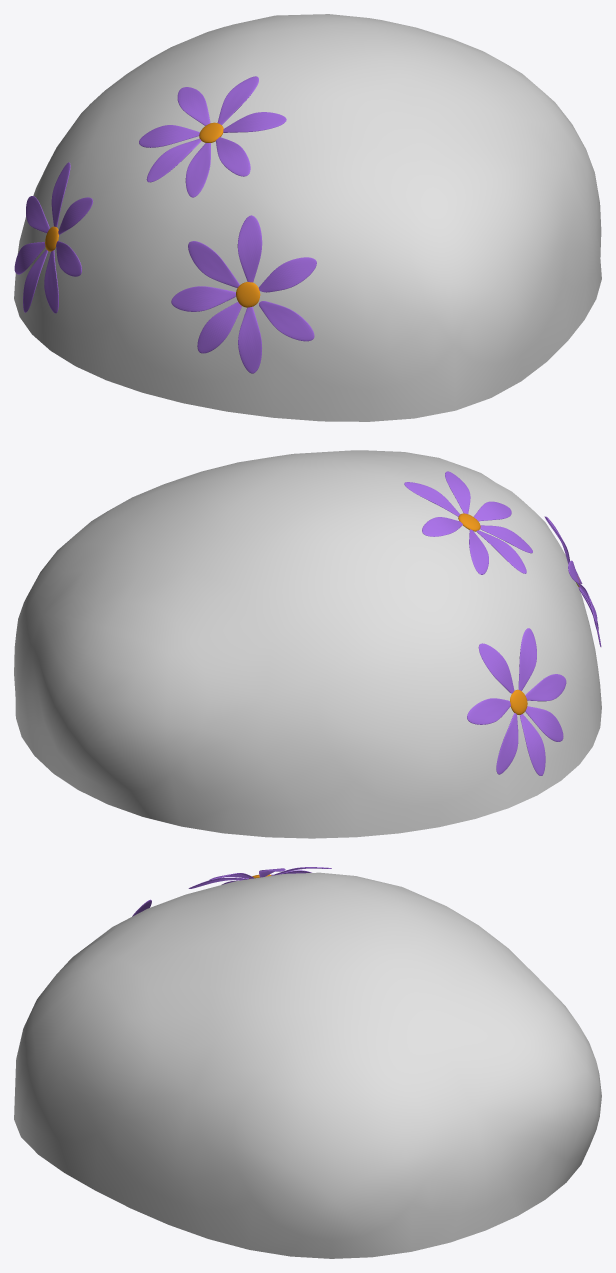
Rendered from BushV1.fbx.
3 views of the same model, one above another, from view 1: azimuth 30°, elevation 25°; view 2: azimuth 150°, elevation 25°; view 3: azimuth 270°, elevation 25° (orthographic). The views are drawn at different scales.
Parts seen in each view (by area): view 1: Icosphere, Cube.003, Cube.002, Cube.001; view 2: Icosphere, Cube.001, Cube.002, Cube.003; view 3: Icosphere, Cube.002.
Part boxes in pixels (bbox=[...]): Icosphere: bbox=[14, 14, 601, 421]; Cube.003: bbox=[171, 215, 316, 373]; Cube.002: bbox=[139, 76, 286, 197]; Cube.001: bbox=[14, 162, 93, 313]; Icosphere: bbox=[14, 450, 601, 838]; Cube.001: bbox=[467, 628, 566, 775]; Cube.002: bbox=[404, 471, 532, 574]; Cube.003: bbox=[544, 516, 601, 646]; Icosphere: bbox=[14, 872, 601, 1258]; Cube.002: bbox=[188, 867, 331, 888].
Bounding box in the file's own units: 472 × 212 × 484.
